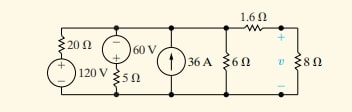current: (155, 47, 189, 79)
dc: (44, 56, 78, 89), (100, 33, 133, 65)
resistor: (289, 50, 305, 73), (219, 48, 232, 75), (241, 23, 266, 36), (54, 33, 68, 55), (110, 67, 122, 91)
